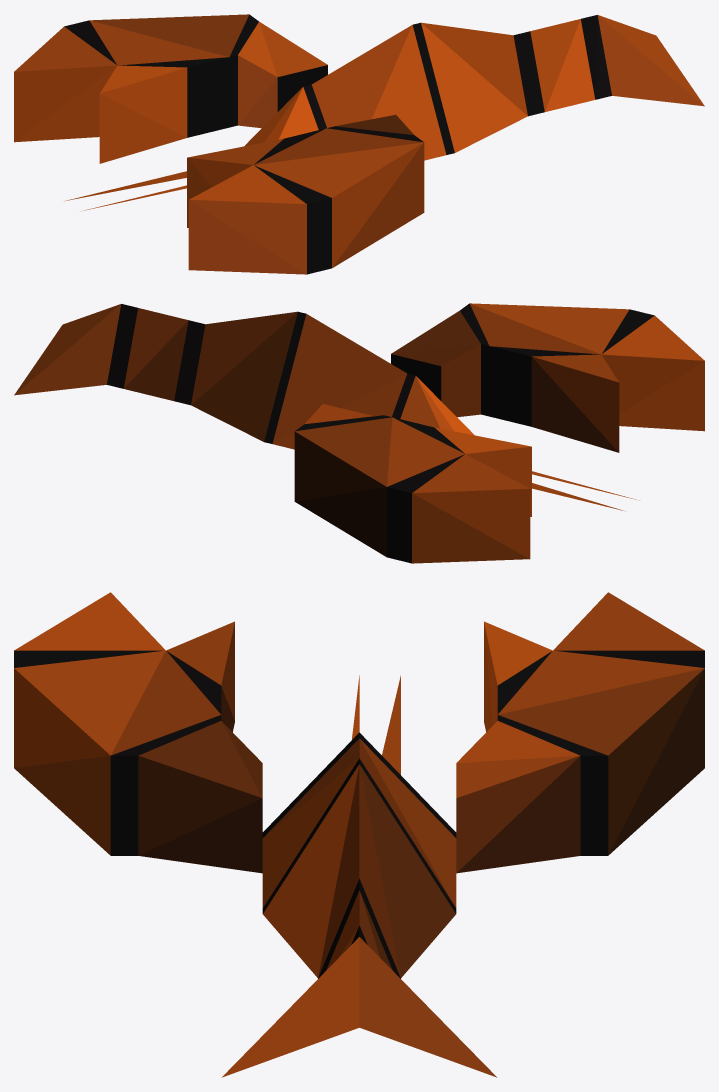
The model's file is lobster.obj.
The picture shows the model from 3 angles, top to bottom: view 1: azimuth 30°, elevation 25°; view 2: azimuth 150°, elevation 25°; view 3: azimuth 270°, elevation 25°; orthographic projection. The views are drawn at different scales.
Parts seen in each view (by area): view 1: Item Lobster 2026-09-13_16-41-33; view 2: Item Lobster 2026-09-13_16-41-33; view 3: Item Lobster 2026-09-13_16-41-33.
Part boxes in pixels (left/top/right/bottom): Item Lobster 2026-09-13_16-41-33: left=14, top=14, right=704, bottom=274; Item Lobster 2026-09-13_16-41-33: left=14, top=303, right=704, bottom=563; Item Lobster 2026-09-13_16-41-33: left=14, top=592, right=704, bottom=1077.
Bounding box in the file's own units: 69 × 12 × 50.
